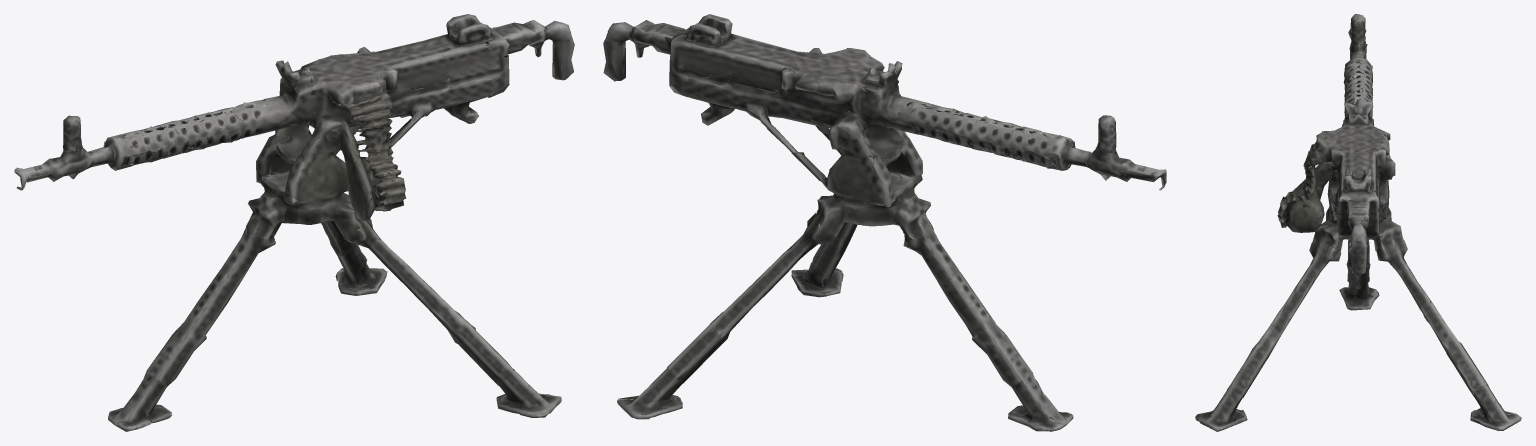
File: meshy_mg1.glb
3 views of the same model, side by side, from view 1: azimuth 30°, elevation 25°; view 2: azimuth 150°, elevation 25°; view 3: azimuth 270°, elevation 25° (orthographic). The views are drawn at different scales.
Visible parts, largest first — view 1: Mesh_0; view 2: Mesh_0; view 3: Mesh_0.
Boxes of the visible parts, x1,y1,x2,y2 form: Mesh_0: [14, 14, 574, 431]; Mesh_0: [603, 14, 1166, 431]; Mesh_0: [1195, 14, 1521, 431].
Bounding box in the file's own units: 1.9 × 1.05 × 1.2.
Materials: 1 (1 with a texture image).
